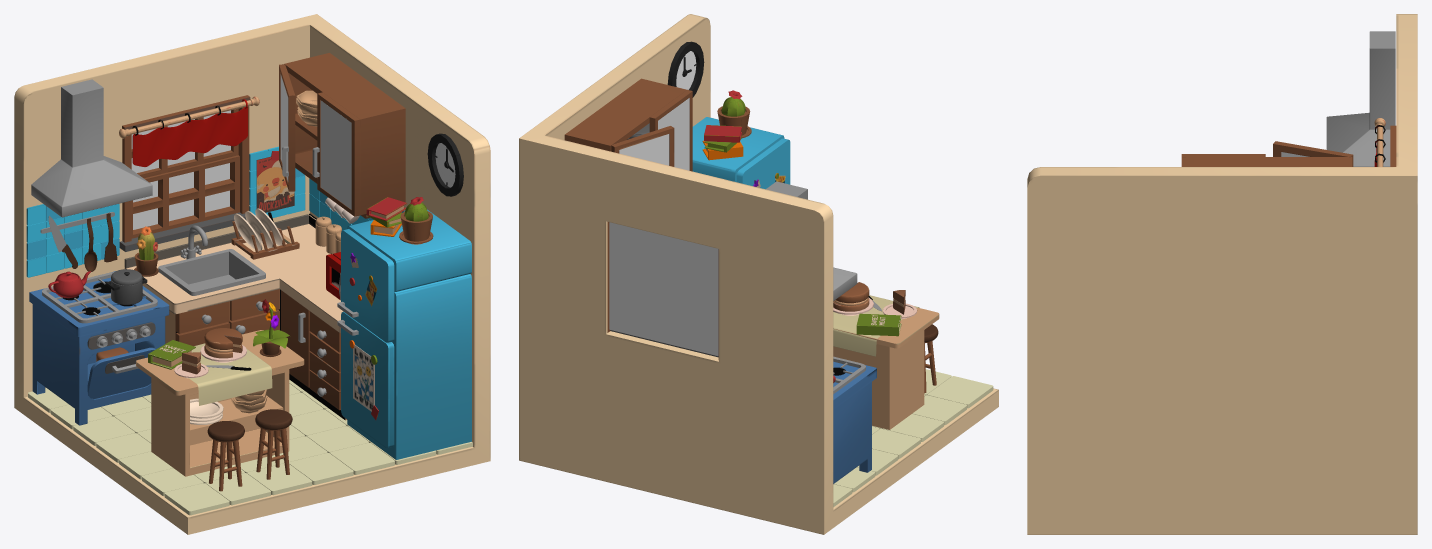
Rendered from KitchenFinal.fbx.
3 renders of one model, left to right at view 1: azimuth 30°, elevation 25°; view 2: azimuth 150°, elevation 25°; view 3: azimuth 270°, elevation 25°, orthographic. The views are drawn at different scales.
Parts seen in each view (by area): view 1: Kitchen; view 2: Kitchen; view 3: Kitchen.
Part boxes in pixels (bbox=[...]): Kitchen: bbox=[14, 14, 490, 534]; Kitchen: bbox=[519, 14, 998, 534]; Kitchen: bbox=[1027, 14, 1417, 534].
Size of the model in its own units: 427 by 431 by 424.
